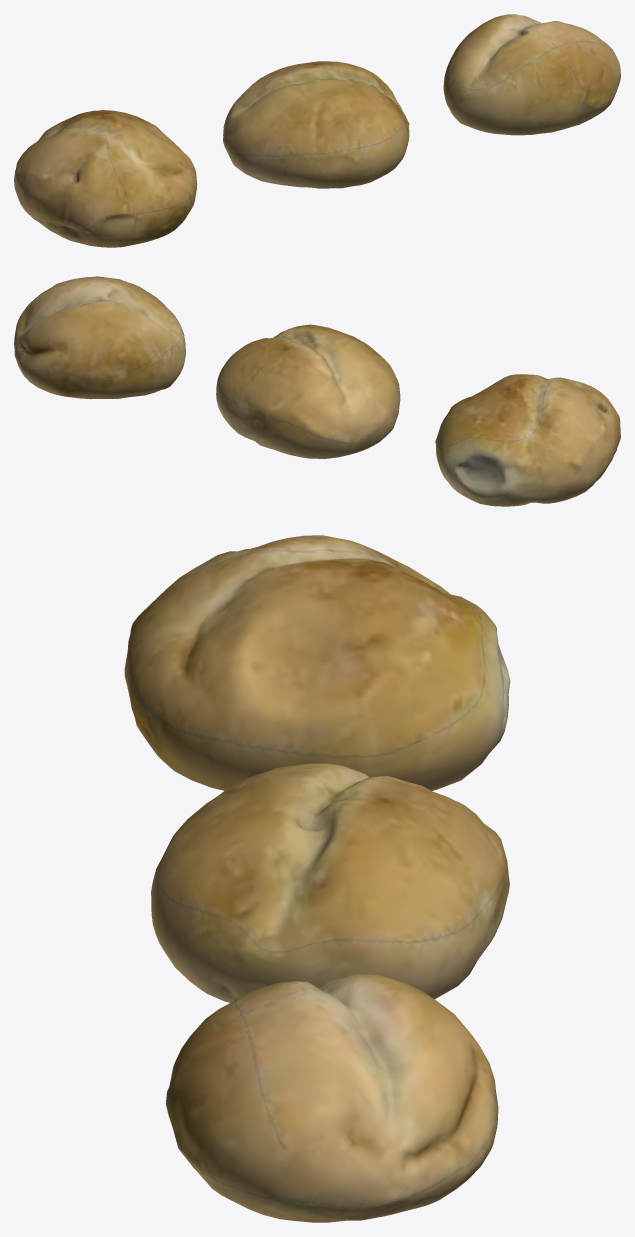
Rendered from hamburger_buns.glb.
3 renders of one model, top to bottom at view 1: azimuth 30°, elevation 25°; view 2: azimuth 150°, elevation 25°; view 3: azimuth 270°, elevation 25°, orthographic. The views are drawn at different scales.
Visible parts, largest first — view 1: hamburger_buns_01; view 2: hamburger_buns_01; view 3: hamburger_buns_01.
Boxes of the visible parts, <box> form: hamburger_buns_01: <box>14,14,620,247</box>; hamburger_buns_01: <box>14,276,620,506</box>; hamburger_buns_01: <box>124,535,510,1222</box>.
Bounding box in the file's own units: 0.3972 × 0.0634 × 0.1138.
1 material, 1 textured.
